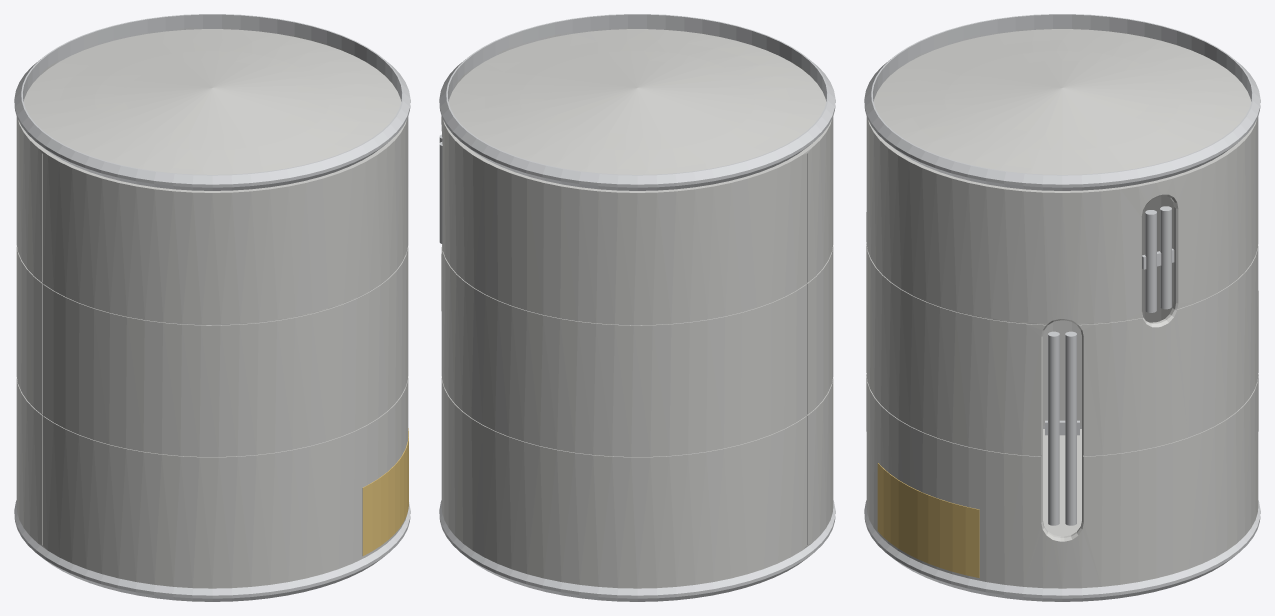
File: ax_tank_01_modern_methalox_l_short.glb
The picture shows the model from 3 angles, left to right: view 1: azimuth 30°, elevation 25°; view 2: azimuth 150°, elevation 25°; view 3: azimuth 270°, elevation 25°; orthographic projection.
Visible parts, largest first — view 1: tank_barrel, dome_caps, end_rings, mli_patch; view 2: tank_barrel, dome_caps, end_rings; view 3: tank_barrel, dome_caps, end_rings, raceway_lines, mli_patch.
Part boxes in pixels (bbox=[...]): tank_barrel: bbox=[16, 117, 408, 588]; dome_caps: bbox=[23, 27, 401, 174]; end_rings: bbox=[14, 14, 410, 601]; mli_patch: bbox=[362, 428, 408, 555]; tank_barrel: bbox=[441, 116, 833, 588]; dome_caps: bbox=[448, 27, 826, 174]; end_rings: bbox=[439, 14, 835, 601]; tank_barrel: bbox=[866, 117, 1258, 588]; dome_caps: bbox=[873, 27, 1251, 536]; end_rings: bbox=[864, 14, 1260, 601]; raceway_lines: bbox=[1045, 206, 1174, 525]; mli_patch: bbox=[877, 463, 979, 577].
Size of the model in its own units: 3.79 by 4.64 by 3.79.
